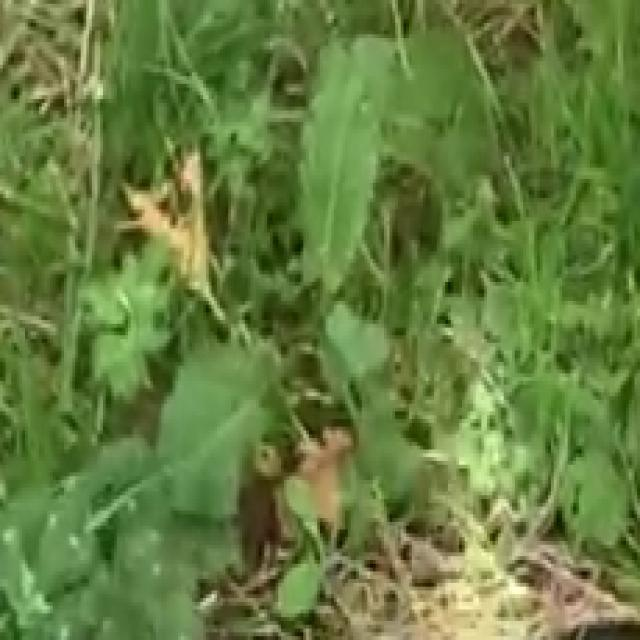organic waste: (3, 312, 317, 640), (231, 0, 526, 343)
